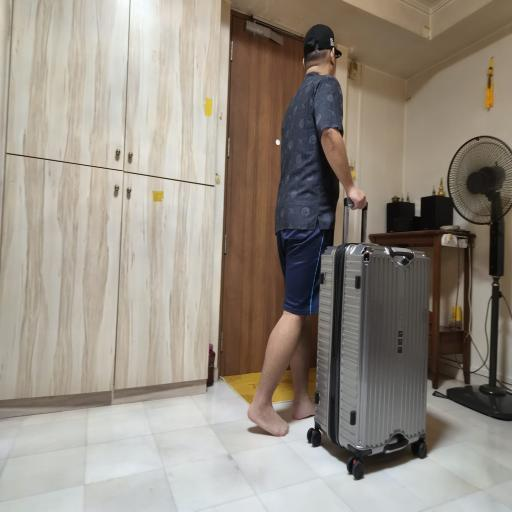person_right: (254, 10, 440, 484)
